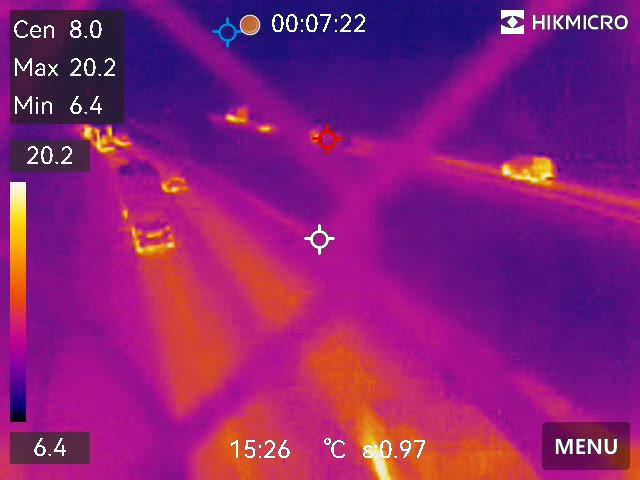vehicle: (121, 211, 182, 253), (501, 154, 554, 184)
